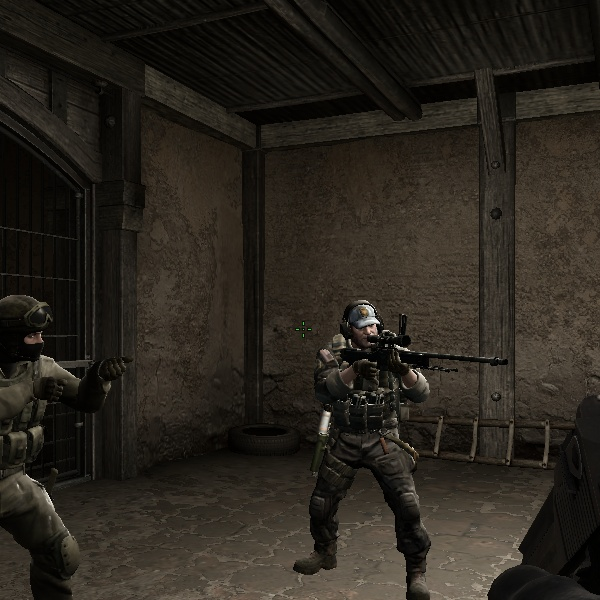ct_body: (290, 294, 453, 587), (1, 292, 112, 587)
ct_head: (3, 294, 70, 365), (325, 293, 394, 360)
